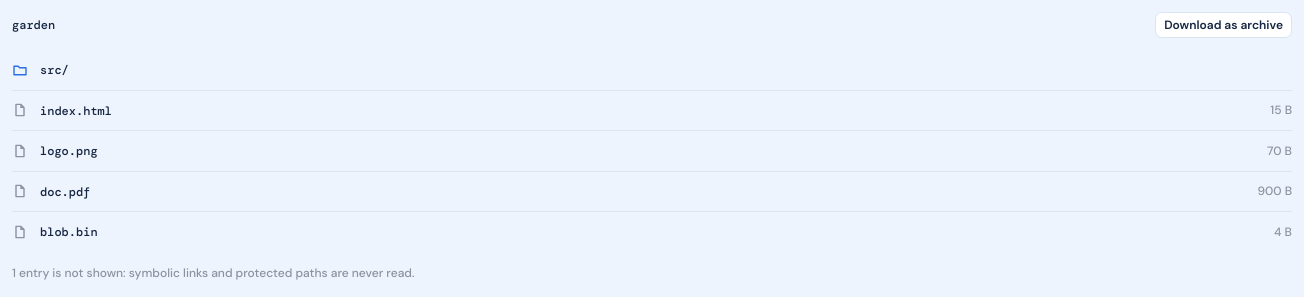
Test: the Files panel › gives anything else its size and a download
The image size is (1304, 297).
Step 1. Click the text "blob.bin" → (69, 232), box x1=40 y1=224 x2=98 y2=240
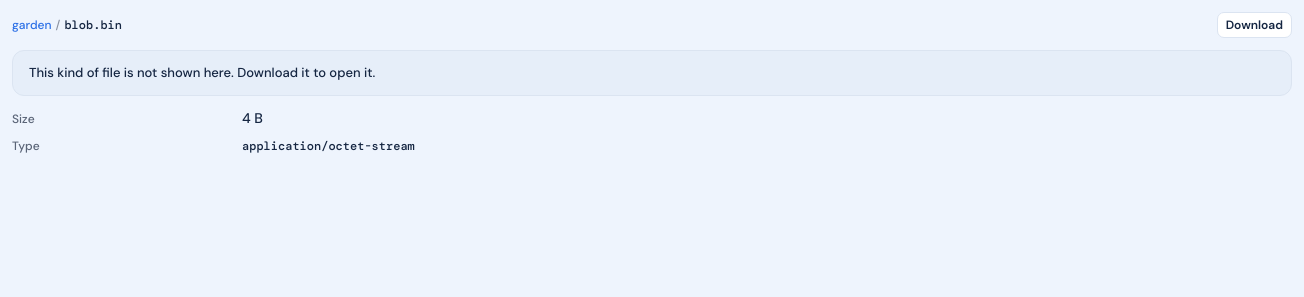
Expected: the text "4 B" is shown, x1=242 y1=108 x2=263 y2=126
Expected: the text "This kind of file is not shown here. Download it to open it." is shown, x1=12 y1=50 x2=1292 y2=96
Expected: the link "Download" is shown, x1=1217 y1=12 x2=1292 y2=38
